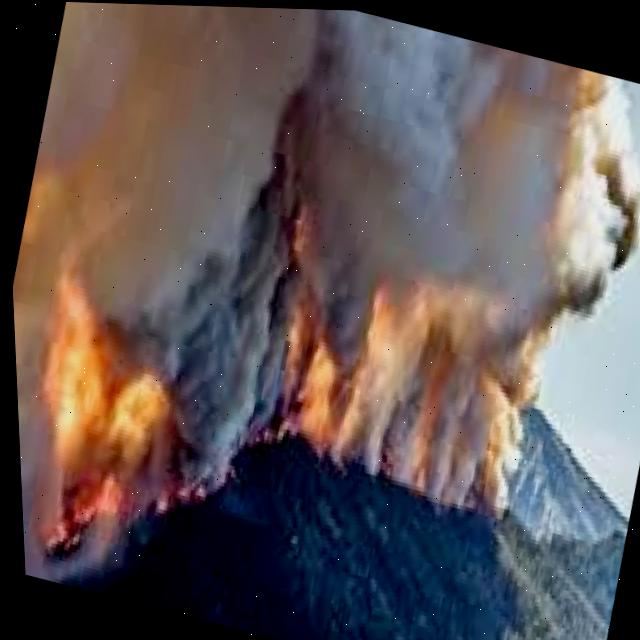fire: (17, 285, 175, 570)
smoke: (16, 2, 624, 389), (332, 353, 506, 509), (155, 302, 272, 472), (10, 267, 67, 528)
